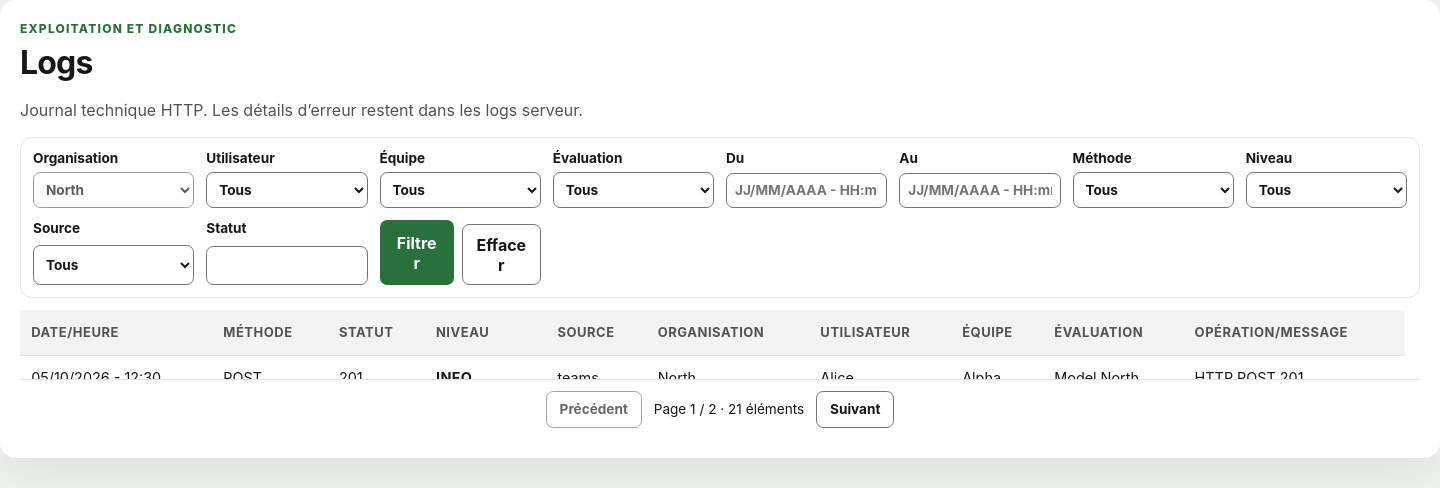
Test: keeps the Admin organization after clearing
This screenshot has width=1440, height=488.
Select "ERROR" in the dropdown labelled "Niveau". click: (1326, 190)
box: [1246,172,1407,208]
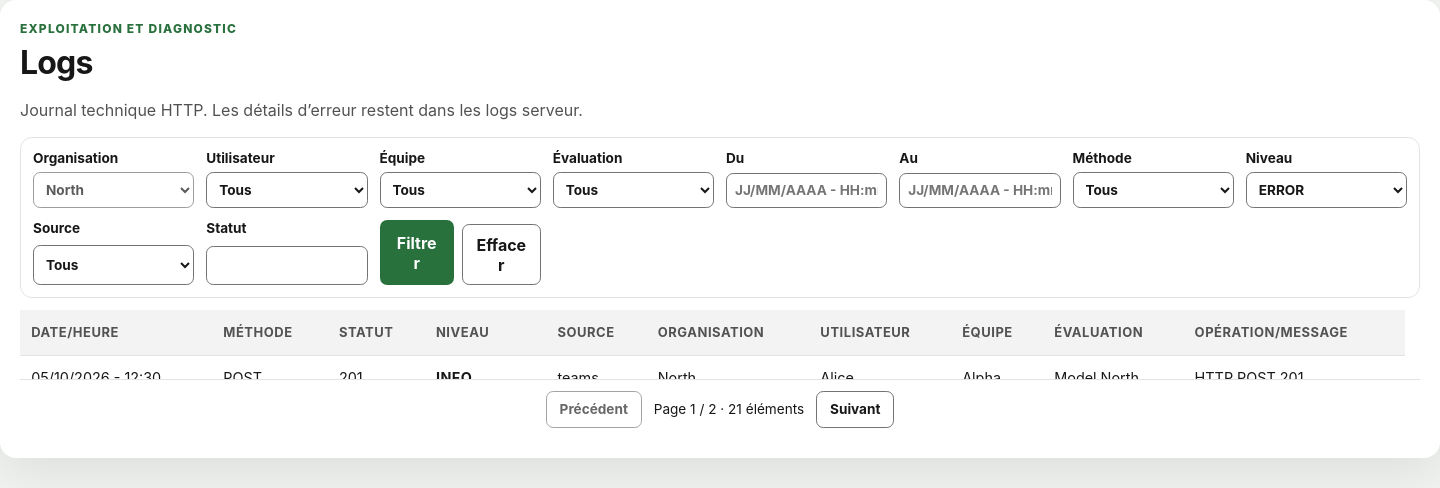
Click the button "Filtrer". click: (417, 253)
box: [380,220,454,285]
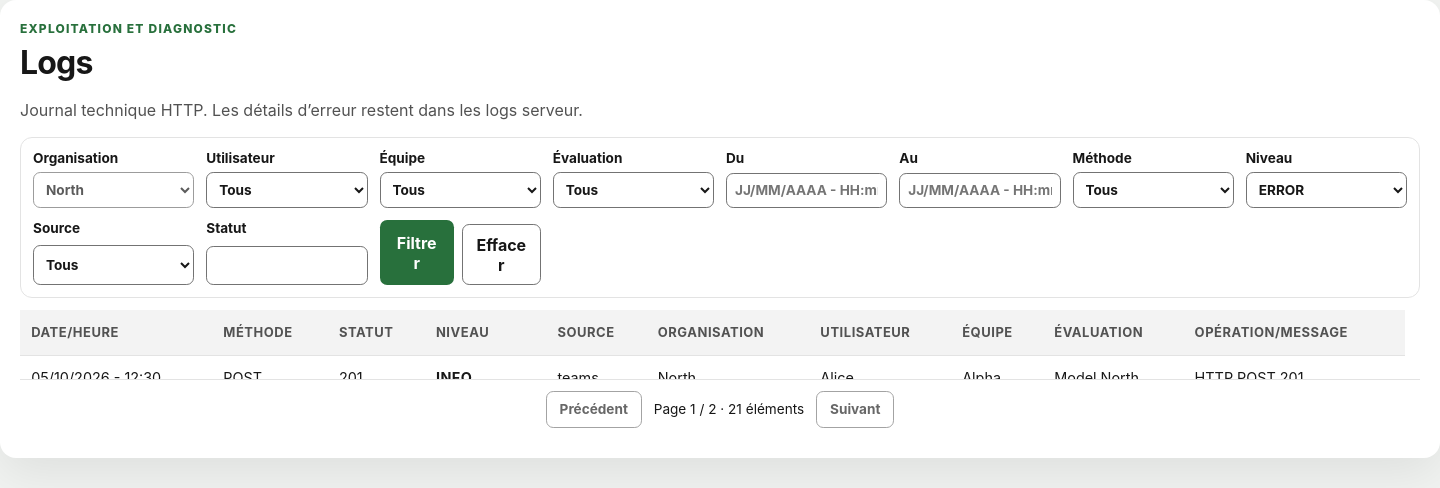
Type "31/02/2026 - 12:00" into the field labelled "Du". click: (807, 190)
box: [726,173,887,208]
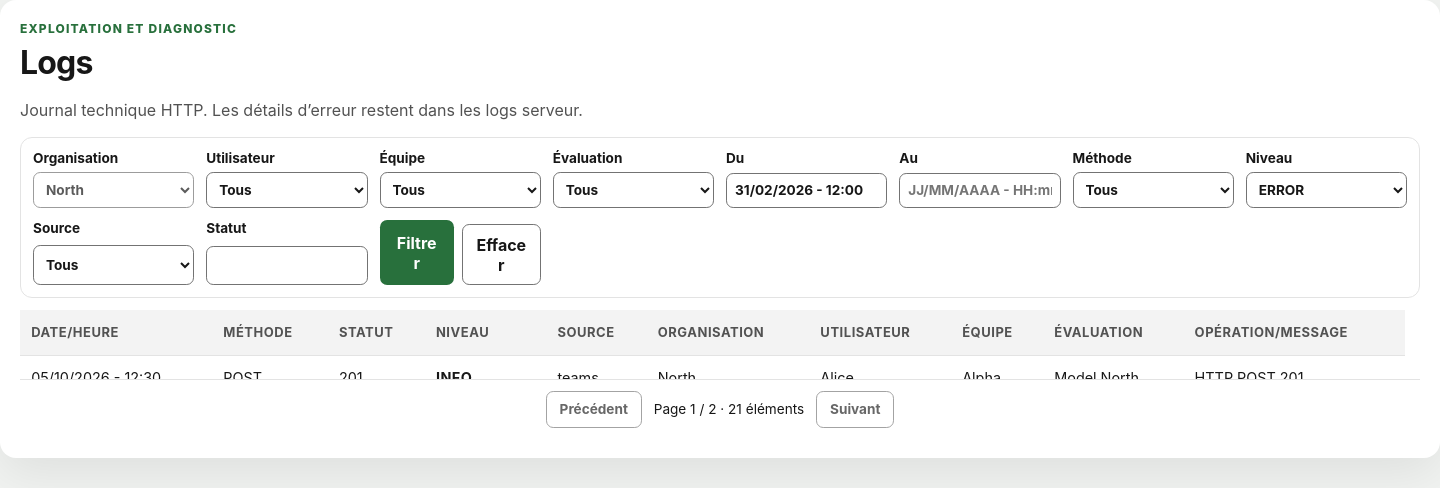
Click the button "Effacer". click: (501, 255)
box: [462,224,541,285]
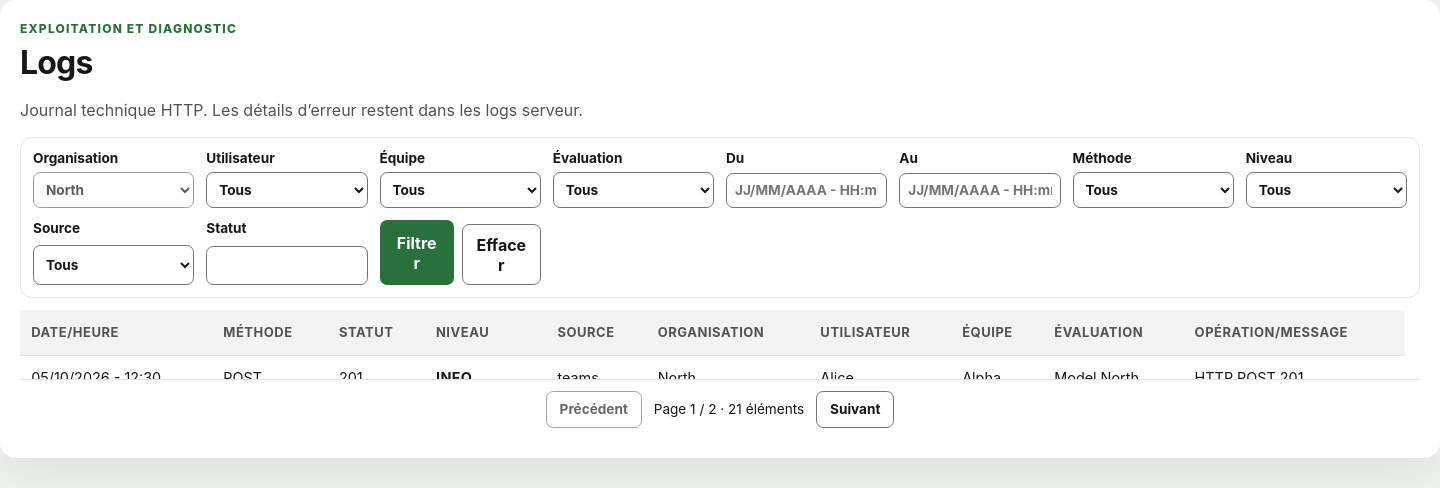
Expected: the dropdown labelled "Organisation" shows "North", [33,172,194,208]
Expected: the field labelled "Du" is empty, [726,173,887,208]
